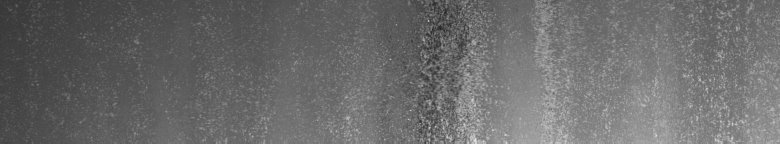hc: (412, 4, 479, 136)
